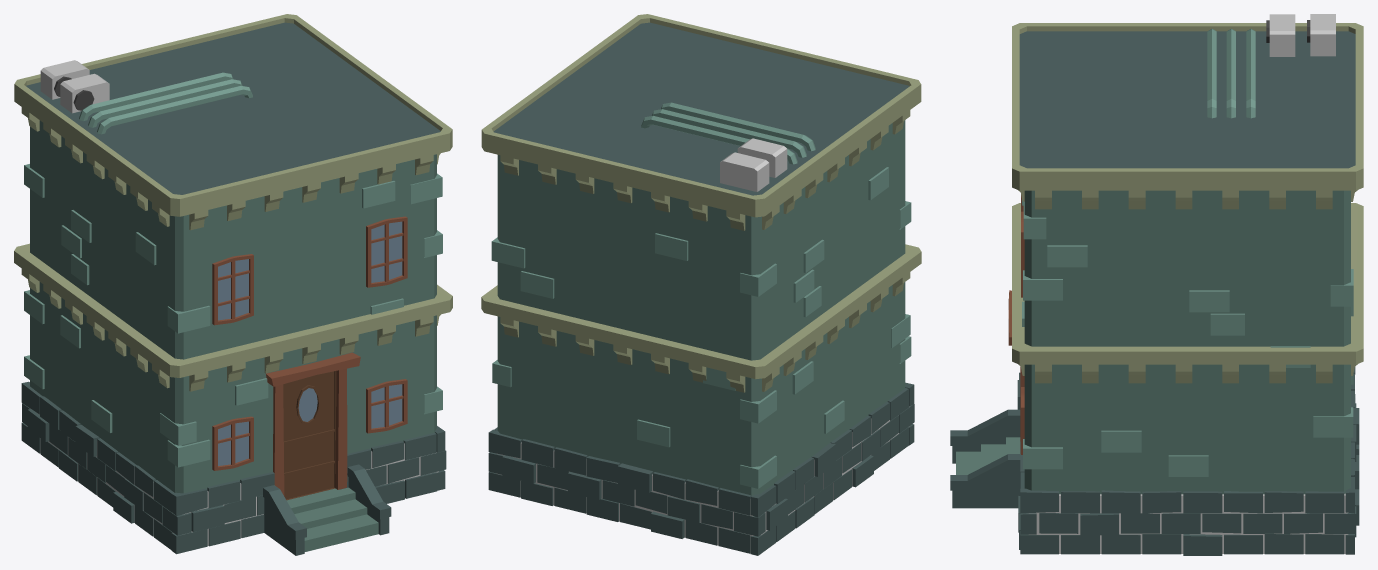
File: 2story_stairs_mat.glb
3 renders of one model, left to right at view 1: azimuth 30°, elevation 25°; view 2: azimuth 150°, elevation 25°; view 3: azimuth 270°, elevation 25°, orthographic. The views are drawn at different scales.
Visible parts, largest first — view 1: 2Story_Stairs_Mat; view 2: 2Story_Stairs_Mat; view 3: 2Story_Stairs_Mat.
Part boxes in pixels (bbox=[...]): 2Story_Stairs_Mat: bbox=[14, 14, 452, 555]; 2Story_Stairs_Mat: bbox=[481, 14, 921, 555]; 2Story_Stairs_Mat: bbox=[950, 14, 1363, 555].
Size of the model in its own units: 2.16 by 2.75 by 2.53.
